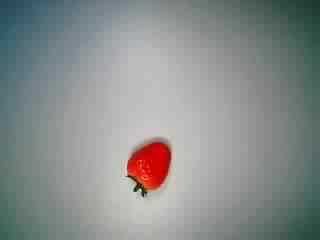strawberry: (112, 132, 180, 196)
